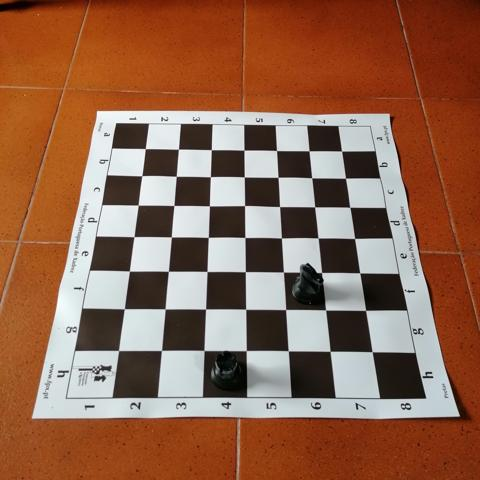xcorner: (333, 144, 348, 159), (300, 144, 315, 159), (268, 144, 283, 159), (235, 144, 250, 159), (202, 144, 217, 159), (169, 144, 184, 159), (137, 144, 152, 159), (337, 170, 352, 185), (303, 170, 318, 185), (269, 170, 284, 185), (235, 170, 250, 185), (201, 170, 216, 185), (167, 170, 182, 185), (133, 170, 148, 185), (342, 199, 357, 214), (306, 199, 321, 214), (271, 199, 286, 214), (235, 199, 250, 214), (200, 199, 215, 214), (164, 199, 179, 214), (129, 199, 144, 214), (347, 230, 362, 245), (310, 230, 325, 245), (236, 231, 251, 246), (199, 231, 214, 246), (162, 231, 177, 246), (125, 231, 140, 246), (352, 265, 367, 280), (314, 265, 329, 280), (275, 265, 290, 280), (236, 265, 251, 280), (197, 265, 212, 280), (159, 265, 174, 280), (120, 265, 135, 280), (358, 302, 373, 317), (318, 302, 333, 317), (277, 302, 292, 317), (237, 302, 252, 317), (155, 303, 170, 318), (115, 303, 130, 318), (365, 344, 380, 359), (322, 344, 337, 359), (280, 344, 295, 359), (237, 344, 252, 359), (194, 344, 209, 359), (152, 344, 167, 359), (109, 344, 124, 359), (273, 231, 288, 245), (196, 303, 211, 317)
